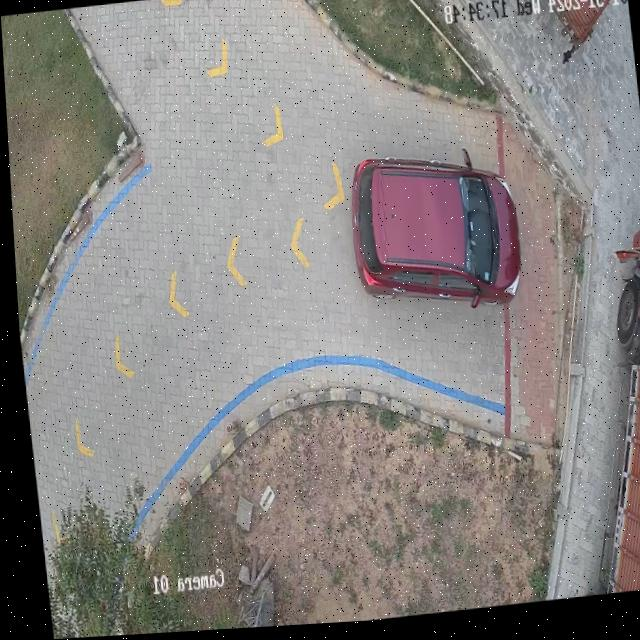car: (349, 156, 518, 314)
